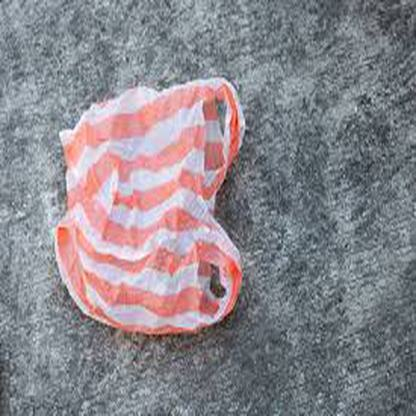plastic bag: (55, 70, 242, 332)
